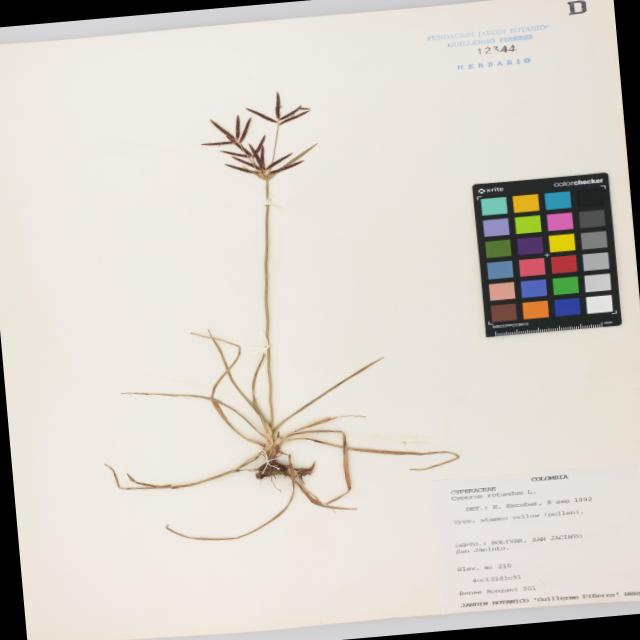cyperus: (184, 84, 336, 196)
